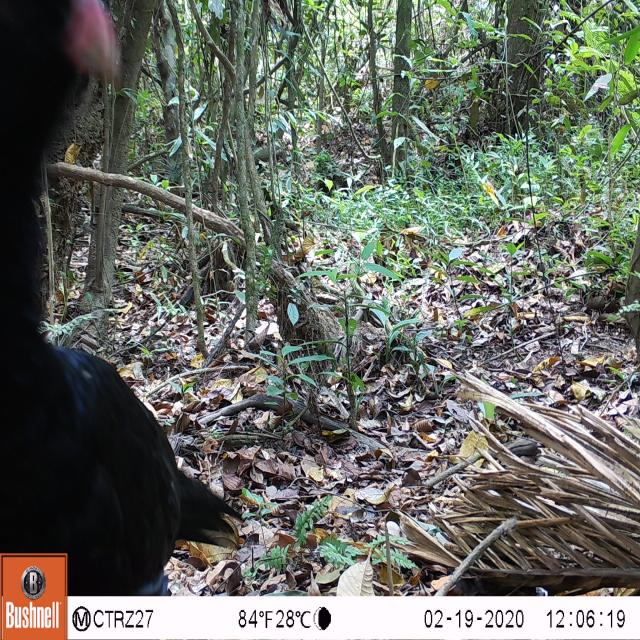Salvins Curassow: (0, 0, 257, 603)
